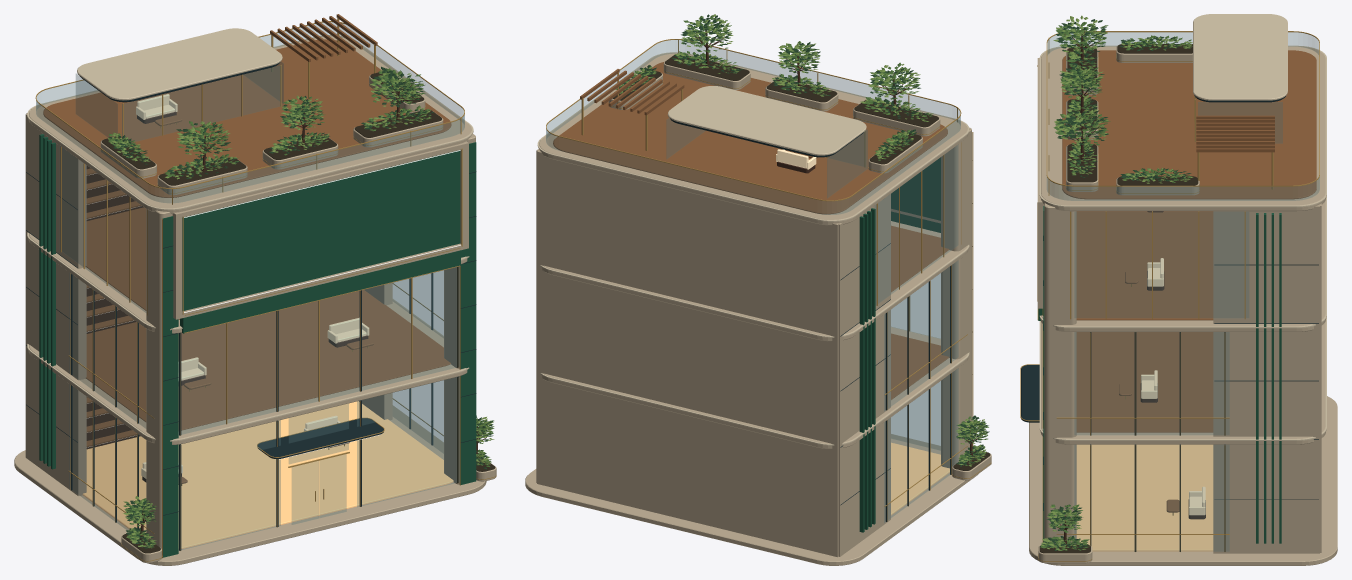
The model's file is vc-retail-botanical-v1.glb.
3 views of the same model, side by side, from view 1: azimuth 30°, elevation 25°; view 2: azimuth 150°, elevation 25°; view 3: azimuth 270°, elevation 25° (orthographic). The views are drawn at different scales.
Parts seen in each view (by area): view 1: VC_Glass, VC_Stone, VC_Wood, VC_Accent, VC_Interior, VC_Stone_Light, VC_Brass, VC_Graphite, VC_Soil, VC_Leaves_Light, VC_Leaves_Shadow, VC_Leaves_Olive (+3 smaller); view 2: VC_Stone, VC_Glass, VC_Wood, VC_Stone_Light, VC_Accent, VC_Brass, VC_Soil, VC_Leaves_Olive, VC_Leaves_Shadow, VC_Leaves_Light, VC_Interior, VC_Graphite (+1 smaller); view 3: VC_Stone, VC_Glass, VC_Wood, VC_Interior, VC_Stone_Light, VC_Brass, VC_Accent, VC_Graphite, VC_Leaves_Olive, VC_Leaves_Shadow, VC_Leaves_Light, VC_Soil (+2 smaller).
Part boxes in pixels (x1,y1,x2,y2): VC_Glass: (36, 22, 464, 549); VC_Stone: (14, 35, 496, 565); VC_Wood: (43, 14, 451, 484); VC_Accent: (39, 134, 476, 557); VC_Interior: (82, 401, 453, 548); VC_Stone_Light: (27, 28, 473, 441); VC_Brass: (35, 17, 496, 561); VC_Graphite: (26, 62, 476, 550); VC_Soil: (101, 72, 495, 553); VC_Leaves_Light: (108, 68, 494, 546); VC_Leaves_Shadow: (109, 66, 493, 548); VC_Leaves_Olive: (108, 68, 494, 548); VC_Stone: (525, 52, 991, 565); VC_Glass: (546, 40, 960, 522); VC_Wood: (553, 62, 949, 399); VC_Stone_Light: (537, 52, 969, 445); VC_Accent: (859, 157, 940, 532); VC_Brass: (546, 39, 991, 521); VC_Soil: (612, 53, 990, 470); VC_Leaves_Olive: (615, 15, 988, 465); VC_Leaves_Shadow: (619, 14, 989, 466); VC_Leaves_Light: (619, 14, 987, 466); VC_Interior: (891, 442, 949, 515); VC_Graphite: (670, 118, 972, 521); VC_Stone: (1029, 45, 1337, 565); VC_Glass: (1047, 32, 1319, 551); VC_Wood: (1062, 50, 1316, 512); VC_Interior: (1076, 444, 1213, 551); VC_Stone_Light: (1039, 14, 1326, 440); VC_Brass: (1020, 31, 1319, 561); VC_Accent: (1038, 206, 1281, 543); VC_Graphite: (1021, 95, 1318, 551); VC_Leaves_Olive: (1040, 22, 1192, 550); VC_Leaves_Shadow: (1040, 19, 1191, 550); VC_Leaves_Light: (1041, 15, 1193, 550); VC_Soil: (1039, 44, 1198, 553).
Size of the model in its own units: 27.73 by 29.46 by 20.56.
